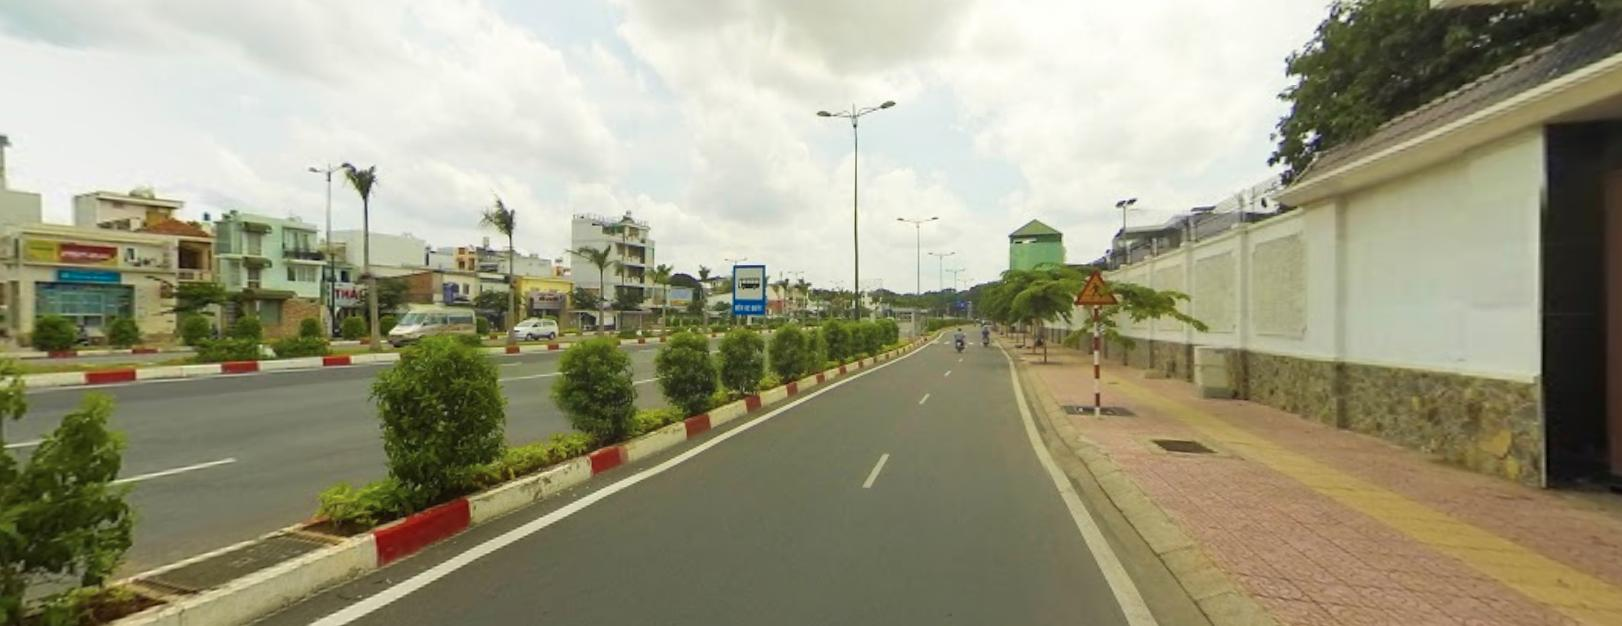Nguy hiem: (1070, 267, 1120, 305)
